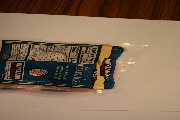chicken: (1, 37, 151, 97)
